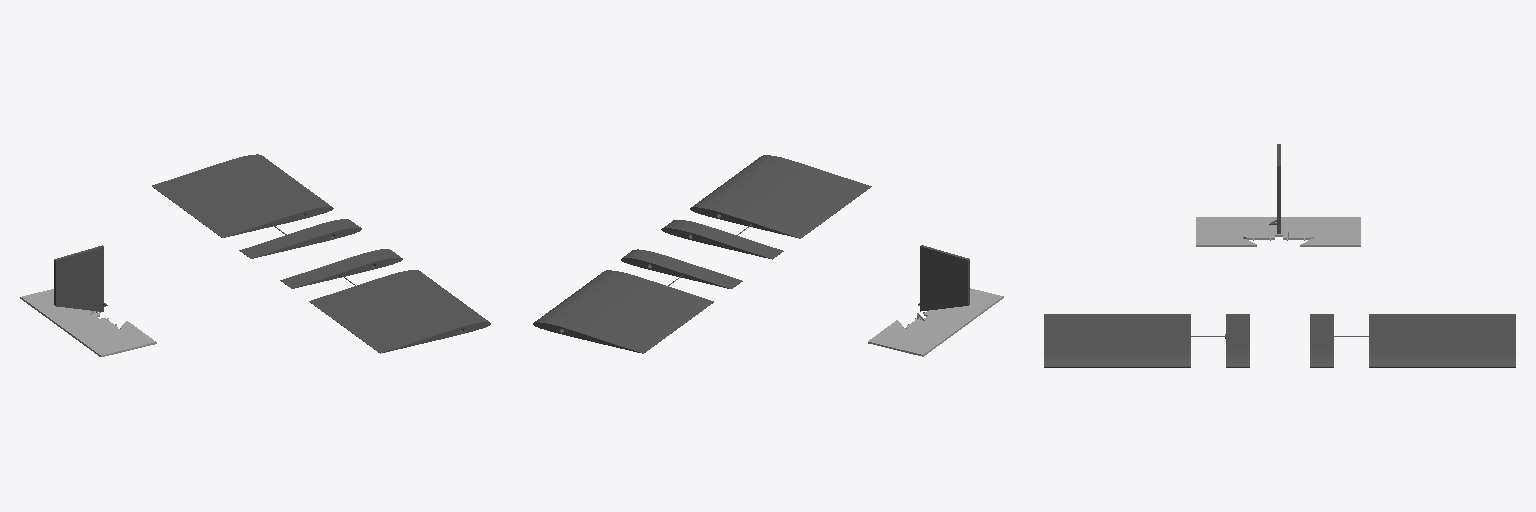
robot.urdf — Plane:
<robot xmlns="http://drake.mit.edu"
 xmlns:xsi="http://www.w3.org/2001/XMLSchema-instance"
 xsi:schemaLocation="http://drake.mit.edu ../../doc/drakeURDF.xsd" name="Plane">
  <link
    name="Fuselage">
    <inertial>
      <origin
        xyz="0.0064116 -3.8482E-05 6.9037E-05"
        rpy="0 0 0" />
      <mass
        value="0.5476" />
      <inertia
        ixx="0.0010352"
        ixy="6.3703E-06"
        ixz="0.00012413"
        iyy="0.0062106"
        iyz="-6.3903E-06"
        izz="0.0070685" />
    </inertial>
    <visual>
      <origin
        xyz="0 0 0"
        rpy="0 0 0" />
      <geometry>
        <mesh filename="meshes/PlaneFuselage.obj" />
        <!-- <sphere radius = ".01"/> -->
      </geometry>
      <material
        name="">
        <color
          rgba="0.4 0 0.4 1" />
      </material>
    </visual>
    <collision>
      <origin
        xyz="-.095 0 0"
        rpy="0 0 0" />
      <geometry>
          <box size = ".623 .063 .191"/>
      </geometry>
    </collision>
  </link>
  <link
    name="LeftWing">
    <inertial>
      <origin
        xyz="-0.026311 0.17404 -0.0011937"
        rpy="0 0 0" />
      <mass
        value="0.0070381" />
      <inertia
        ixx="5.6681E-05"
        ixy="1.3411E-06"
        ixz="4.6705E-07"
        iyy="1.5567E-05"
        iyz="4.1572E-08"
        izz="7.2091E-05" />
    </inertial>
    <visual>
      <origin
        xyz="0 0 0"
        rpy="0 0 0" />
      <geometry>
        <mesh filename="meshes/PlaneLeftWing.obj" />
      </geometry>
      <material
        name="">
        <color
          rgba=".4 .4 .4 1" />
      </material>
    </visual>
    <collision>
      <origin
        xyz="-.05 .2 0"
        rpy="0 0 0" />
      <geometry>
        <box size =".2 .4 .03"/>
      </geometry>
    </collision>
  </link>
  <joint
    name="LeftWingJoint"
    type="revolute">
    <origin
      xyz="0.00093765 0.04586 -0.00091841"
      rpy="0 0 0" />
    <parent
      link="Fuselage" />
    <child
      link="LeftWing" />
    <axis
      xyz="0 1 0" />
    <limit
      lower="-0.65"
      upper="0.65"
      effort="0"
      velocity="18" />
  </joint>
  <link
    name="RightWing">
    <inertial>
      <origin
        xyz="-0.026514 -0.17185 -0.0012004"
        rpy="0 0 0" />
      <mass
        value="0.007081" />
      <inertia
        ixx="5.7443E-05"
        ixy="-1.5302E-06"
        ixz="4.6881E-07"
        iyy="1.5614E-05"
        iyz="-4.7318E-08"
        izz="7.29E-05" />
    </inertial>
    <visual>
      <origin
        xyz="0 0 0"
        rpy="0 0 0" />
      <geometry>
        <mesh
          filename="meshes/PlaneRightWing.obj" />
      </geometry>
      <material
        name="">
        <color
          rgba=".4 .4 .4 1" />
      </material>
    </visual>
    <collision>
      <origin
        xyz="-.05 -.2 0"
        rpy="0 0 0" />
      <geometry>
        <box size =".2 .4 .03"/>
      </geometry>
    </collision>
  </link>
  <joint
    name="RightWingJoint"
    type="revolute">
    <origin
      xyz="0.00093765 -0.042393 -0.00091841"
      rpy="0 0 0" />
    <parent
      link="Fuselage" />
    <child
      link="RightWing" />
    <axis
      xyz="0 1 0" />
    <limit
      lower="-0.65"
      upper="0.65"
      effort="0"
      velocity="18" />
  </joint>
  <link
    name="Elevator">
    <inertial>
      <origin
        xyz="-0.028692 0.00092117 -9.0303E-05"
        rpy="0 0 0" />
      <mass
        value="0.0034019" />
      <inertia
        ixx="1.7645E-05"
        ixy="6.1641E-08"
        ixz="1.7326E-08"
        iyy="2.633E-06"
        iyz="9.4289E-09"
        izz="2.0262E-05" />
    </inertial>
    <visual>
      <origin
        xyz="0 0 0"
        rpy="0 0 0" />
      <geometry>
        <mesh
          filename="meshes/PlaneElevator.obj" />
      </geometry>
      <material
        name="">
        <color
          rgba=".7 .7 .7 1" />
      </material>
    </visual>
    <collision>
      <origin
        xyz="-.0254 0 0"
        rpy="0 0 0" />
      <geometry>
        <box size =".102 .254 .003"/>
      </geometry>
    </collision>
  </link>
  <joint
    name="ElevatorJoint"
    type="revolute">
    <origin
      xyz="-0.44438 0.00052809 -0.017886"
      rpy="0 0 0" />
    <parent
      link="Fuselage" />
    <child
      link="Elevator" />
    <axis
      xyz="0 1 0" />
    <limit
      lower="-0.65"
      upper="0.65"
      effort="0"
      velocity="18" />
  </joint>
  <link
    name="Rudder">
    <inertial>
      <origin
        xyz="-0.037114 -0.0057157 0.00096752"
        rpy="0 0 0" />
      <mass
        value="0.0012918" />
      <inertia
        ixx="1.3582E-06"
        ixy="-4.7962E-07"
        ixz="3.6658E-08"
        iyy="9.6911E-07"
        iyz="-4.6973E-08"
        izz="2.3033E-06" />
    </inertial>
    <visual>
      <origin
        xyz="0 0 0"
        rpy="0 0 0" />
      <geometry>
        <!-- <sphere radius =".01"/> -->
        <mesh filename="meshes/PlaneRudder.obj" />
      </geometry>
      <material
        name="">
        <color
          rgba=".4 .4 .4 1" />
      </material>
    </visual>
    <collision>
      <origin
        xyz="-.038 0.018 0"
        rpy="0 0 0" />
      <geometry>
        <box size =".076 .085 .005"/>
      </geometry>
    </collision>
  </link>
  <joint
    name="RudderJoint"
    type="revolute">
    <origin
      xyz="-0.44234 0.00052809 0.05"
      rpy="1.5708 0 0" />
    <parent
      link="Fuselage" />
    <child
      link="Rudder" />
    <axis
      xyz="0 1 0" />
    <limit
      lower="-0.65"
      upper="0.65"
      effort="0"
      velocity="18" />
  </joint>
<!--FORCE ELEMENTS ADDED MANUALLY AFTER SOLIDWORKS EXPORT-->
  <force_element name="LeftWing_force">
    <wing profile="ht23.dat" chord=".228" span=".28" nominal_speed="10" stall_angle="10">
    	<parent link="LeftWing"/>
    	<origin xyz="-.01 .18 0" rpy="0 0 0"/> 
    </wing>
  </force_element>
  <force_element name="RightWing_force"> 
    <wing profile="ht23.dat" chord=".228" span=".28" nominal_speed="10" stall_angle="10">
    	<parent link="RightWing"/>
    	<origin xyz="-.01 -.18 0" rpy="0 0 0"/> 
    </wing>
  </force_element>
  <force_element name="Elevator_force">
    <wing chord="0.10" nominal_speed="10" profile="flat plate" span=".254" stall_angle="12"> 
    	<parent link="Elevator"/>
    	<origin xyz="-.0105 0 0" rpy="0 0 0"/> 
    </wing>
  </force_element>
  <force_element name="Rudder_force">
    <wing profile="flat plate" chord=".07" span=".23" nominal_speed="10" stall_angle="12"> 
    	<parent link="Rudder"/>
    	<origin xyz="-.022 0 0" rpy="0 0 0"/> 
    </wing>
  </force_element>
  <force_element name="Propellers">
    <thrust lower_limit="0" upper_limit="300" scale_factor=".00223">
      <!--full throttle (255 value) is about .57 kg of thrust -->
      <parent link="Fuselage"/>
      <origin xyz=".2 0 0"/>
      <axis xyz="1 0 0"/>
    </thrust>
  </force_element>
<!--Even though transmissions come in after Thrust in the URDF,
	They come in as inputs 1-4 in the Drake model -->
  <transmission name="RightWingTorque" type="SimpleTransmission" >
    <joint name="RightWingJoint" />
    <actuator name="RightWingServo"/>
    <mechanicalReduction>1</mechanicalReduction>
  </transmission>
  <transmission name="LeftWingTorque" type="SimpleTransmission" >
    <joint name="LeftWingJoint" />
    <actuator name="LeftWingServo"/>
    <mechanicalReduction>1</mechanicalReduction>
  </transmission>
  <transmission name="ElevatorTorque" type="SimpleTransmission" >
    <joint name="ElevatorJoint" />
    <actuator name="ElevatorServo"/>
    <mechanicalReduction>1</mechanicalReduction>
  </transmission>
  <transmission name="RudderTorque" type="SimpleTransmission" >
    <joint name="RudderJoint" />
    <actuator name="RudderServo"/>
    <mechanicalReduction>1</mechanicalReduction>
  </transmission>
</robot>

--- Facts derived from the render (not from the file) ---
3 views of the same robot in one strip: view 1: azimuth 30°, elevation 25°; view 2: azimuth 150°, elevation 25°; view 3: azimuth 270°, elevation 25° (orthographic).
Robot: Plane — 5 links, 4 joints (4 revolute); root link Fuselage; default pose: every joint at zero.
Visible links, largest first — view 1: LeftWing, RightWing, Elevator, Rudder; view 2: LeftWing, RightWing, Elevator, Rudder; view 3: RightWing, LeftWing, Elevator.
Link boxes in pixels (bbox=[...]): LeftWing: bbox=[152, 154, 361, 258]; RightWing: bbox=[280, 249, 490, 353]; Elevator: bbox=[20, 289, 156, 356]; Rudder: bbox=[54, 245, 107, 311]; LeftWing: bbox=[533, 249, 742, 353]; RightWing: bbox=[661, 155, 871, 259]; Elevator: bbox=[868, 288, 1003, 356]; Rudder: bbox=[918, 245, 969, 311]; RightWing: bbox=[1044, 314, 1249, 367]; LeftWing: bbox=[1310, 314, 1515, 367]; Elevator: bbox=[1196, 217, 1360, 246].
Size in the robot's own frame: 0.5884 by 0.7233 by 0.1251 metres.
4 mesh visuals loaded from 5 distinct referenced files (4 OBJ); not drawn: 1 (reference not matched to a file when rendering).